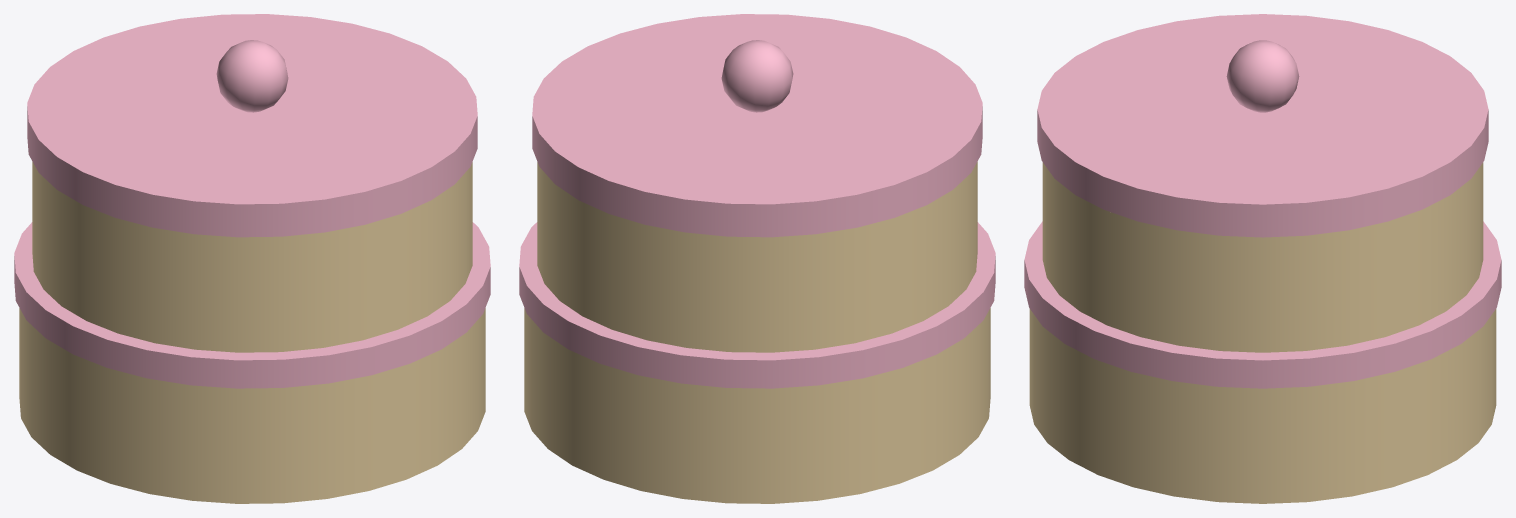
The model's file is Cake.fbx.
The picture shows the model from 3 angles, left to right: view 1: azimuth 30°, elevation 25°; view 2: azimuth 150°, elevation 25°; view 3: azimuth 270°, elevation 25°; orthographic projection.
Parts seen in each view (by area): view 1: Cake; view 2: Cake; view 3: Cake.
Boxes of the visible parts, bbox=[...] form: Cake: bbox=[14, 14, 490, 503]; Cake: bbox=[519, 14, 995, 503]; Cake: bbox=[1024, 14, 1501, 503].
Bounding box in the file's own units: 0.184 × 0.154 × 0.184.
